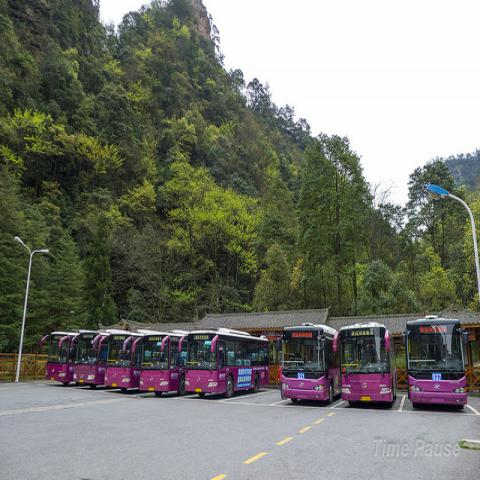bus: (178, 327, 270, 399), (402, 315, 469, 411), (282, 321, 342, 406), (340, 322, 399, 408), (132, 331, 188, 397), (99, 330, 141, 391), (71, 329, 109, 390), (40, 331, 79, 385)
